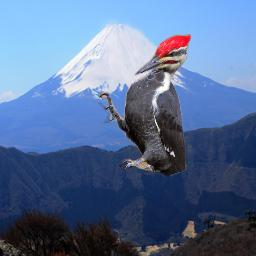Woodpecker: (98, 34, 191, 177)
